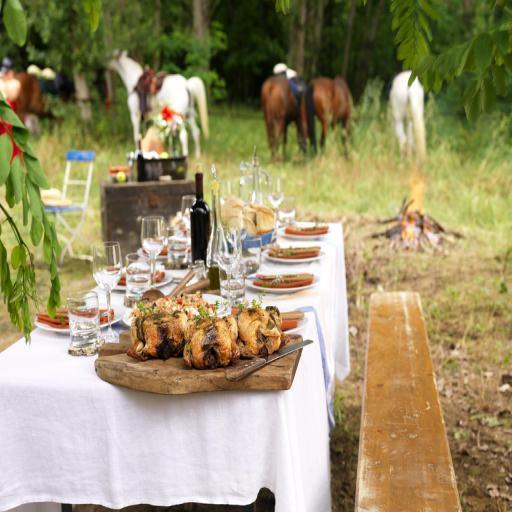horse: (96, 47, 210, 160), (260, 65, 314, 148), (307, 70, 354, 158), (386, 70, 428, 154), (0, 70, 54, 130)
